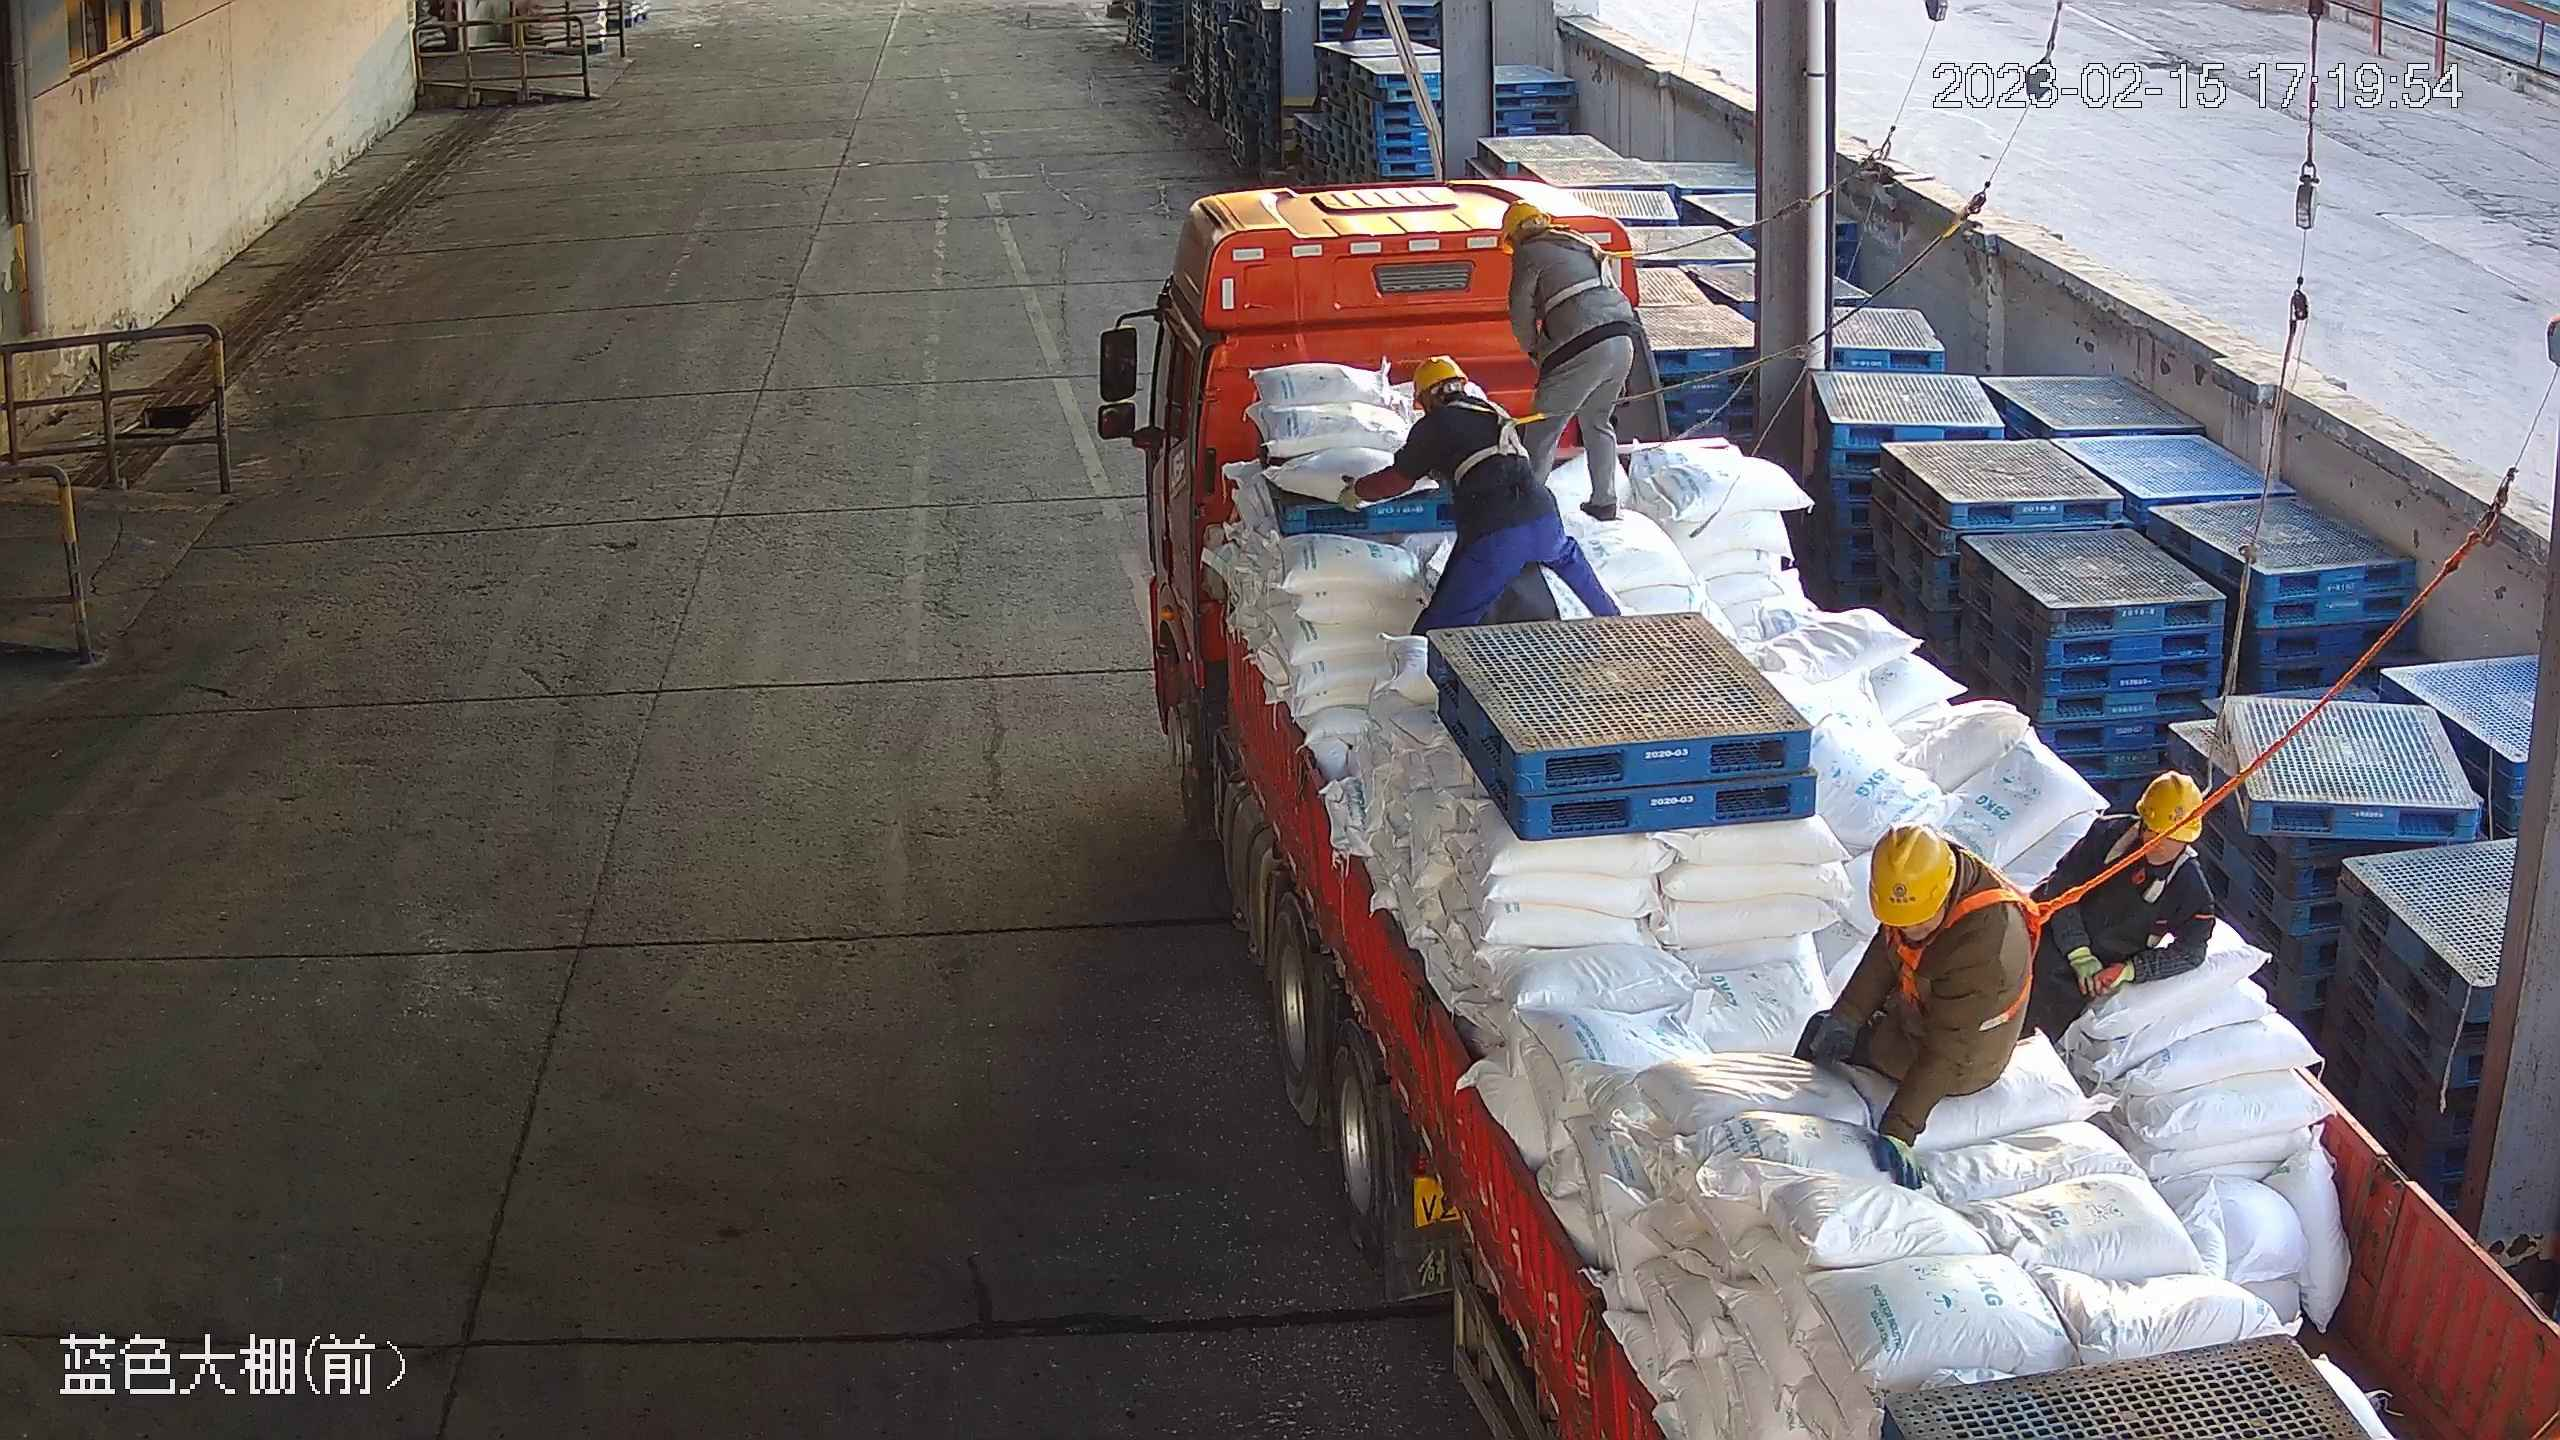belt: (1890, 884, 2059, 1023), (1531, 225, 1638, 308), (2094, 817, 2205, 897), (1442, 392, 1529, 486)
head: (1835, 827, 2033, 981), (2051, 775, 2207, 873), (1498, 195, 1625, 297), (1402, 354, 1514, 438)
helmet: (1864, 820, 1966, 921), (2133, 771, 2211, 845), (1411, 345, 1470, 399), (1496, 197, 1548, 236)
people: (1803, 827, 2044, 1177), (1353, 358, 1620, 627), (2032, 777, 2221, 1043), (1499, 200, 1638, 516)
truck: (1081, 188, 2560, 1440)
